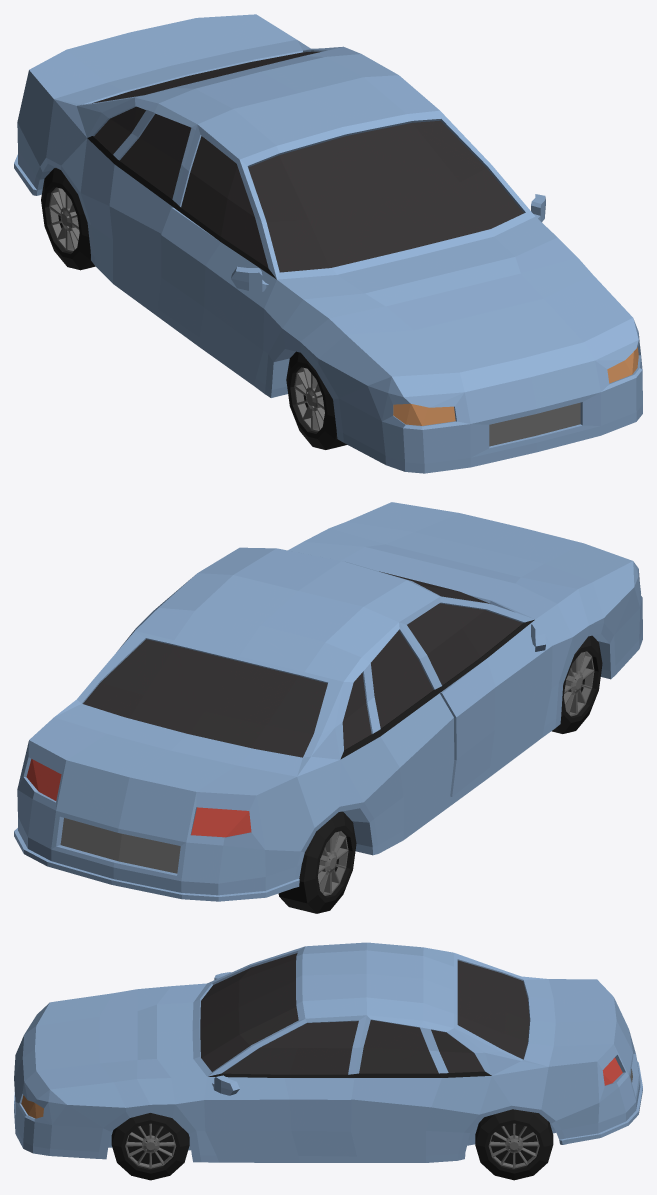
File: traffic-sedan-lod0.glb
The picture shows the model from 3 angles, top to bottom: view 1: azimuth 30°, elevation 25°; view 2: azimuth 150°, elevation 25°; view 3: azimuth 270°, elevation 25°; orthographic projection. The views are drawn at different scales.
Visible parts, largest first — view 1: NormalCar1_Cube.012; view 2: NormalCar1_Cube.012; view 3: NormalCar1_Cube.012.
Part boxes in pixels (<box>): NormalCar1_Cube.012: <box>14,14,642,473</box>; NormalCar1_Cube.012: <box>14,502,642,913</box>; NormalCar1_Cube.012: <box>14,942,642,1180</box>.
Bounding box in the file's own units: 1.81 × 1.18 × 4.22.
1 material, 1 textured.
